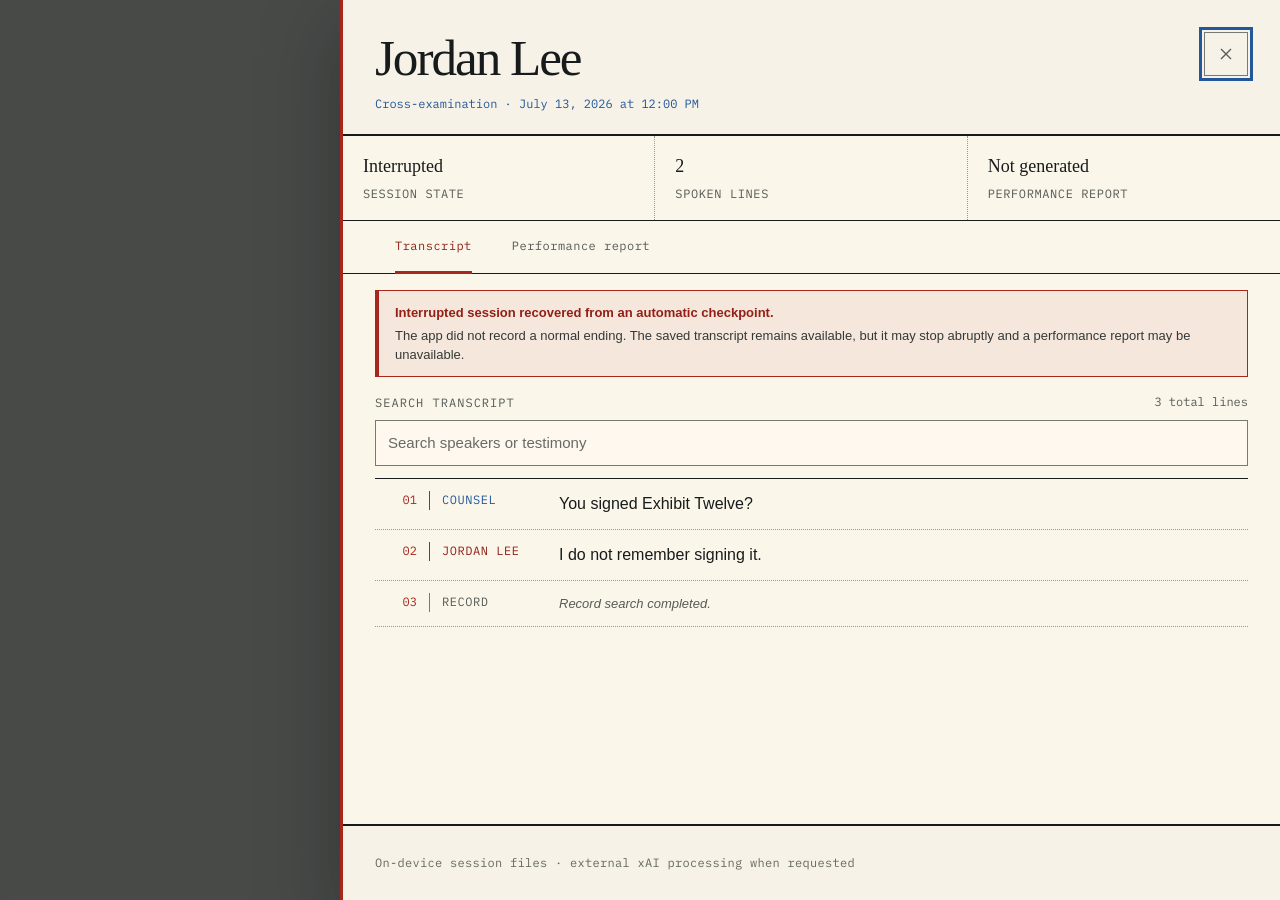
Test case: SessionReviewDrawer transcript search › identifies a transcript recovered from an interrupted checkpoint
Expected: the message named "Interrupted session recovery" shows "recovered from an automatic checkpoint", [395,304,774,320]
Expected: the text "Interrupted" is shown, [363,156,443,176]
Click the tab "Performance report" at (581, 246), box [492,220,670,272]
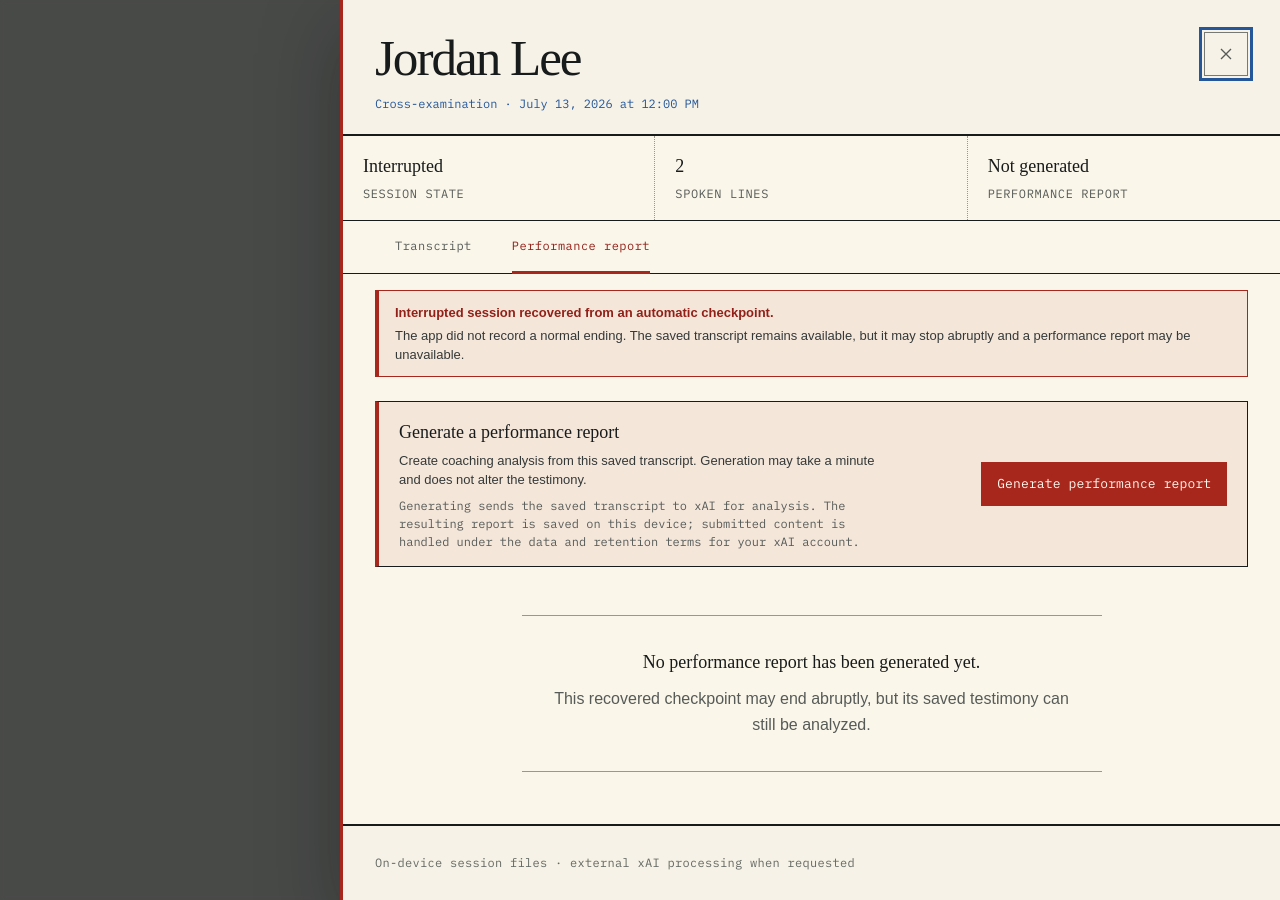
Now the text "recovered checkpoint may end abruptly" is shown, box [554,690,1069,734]
